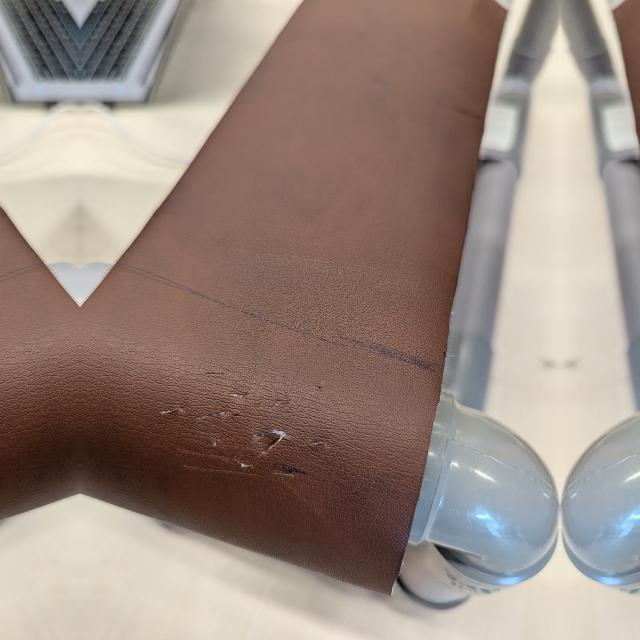belt_crack: (118, 341, 358, 491), (0, 341, 42, 491)
